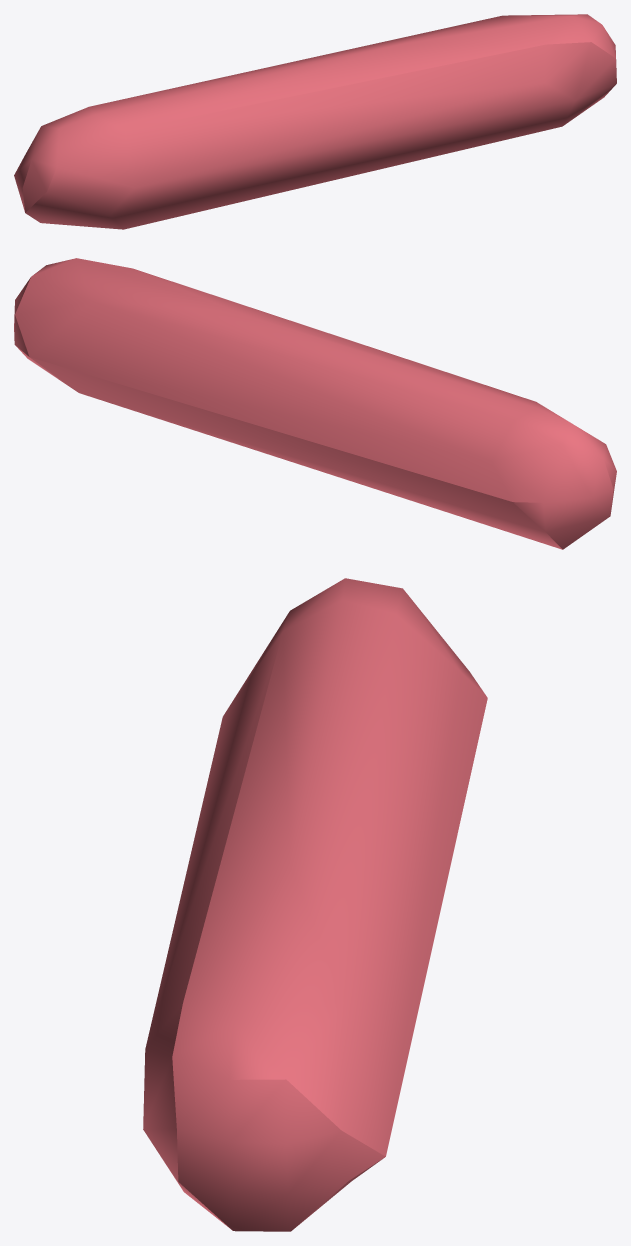
Rendered from fma50169_fj1655.glb.
3 renders of one model, top to bottom at view 1: azimuth 30°, elevation 25°; view 2: azimuth 150°, elevation 25°; view 3: azimuth 270°, elevation 25°, orthographic. The views are drawn at different scales.
Parts seen in each view (by area): view 1: FMA50169_FJ1655; view 2: FMA50169_FJ1655; view 3: FMA50169_FJ1655.
Part boxes in pixels (left/top/right/bottom): FMA50169_FJ1655: left=14, top=14, right=616, bottom=229; FMA50169_FJ1655: left=14, top=258, right=616, bottom=549; FMA50169_FJ1655: left=143, top=578, right=487, bottom=1231.
Bounding box in the file's own units: 0.00686 × 0.00137 × 0.00181.
